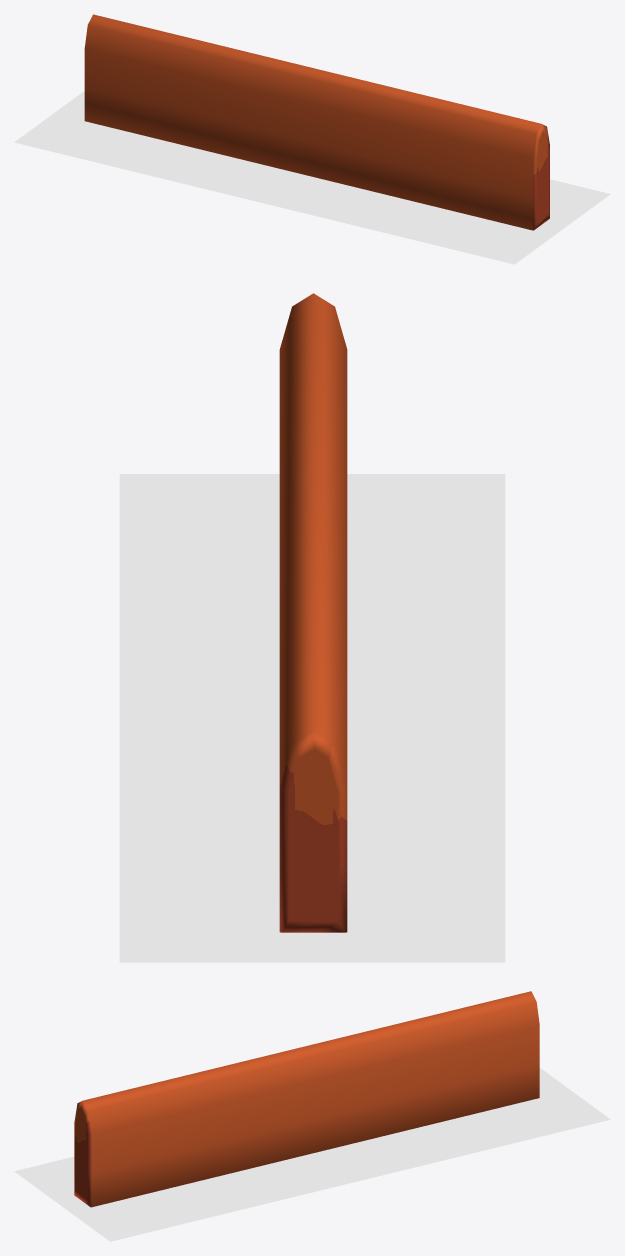
Rendered from NormalContent.fbx.
3 views of the same model, one above another, from view 1: azimuth 30°, elevation 25°; view 2: azimuth 150°, elevation 25°; view 3: azimuth 270°, elevation 25° (orthographic). The views are drawn at different scales.
Visible parts, largest first — view 1: BasicObstacle, Shadow; view 2: Shadow, BasicObstacle; view 3: BasicObstacle, Shadow.
Part boxes in pixels (bbox=[...]): BasicObstacle: bbox=[84, 14, 549, 230]; Shadow: bbox=[14, 91, 610, 264]; Shadow: bbox=[119, 474, 505, 962]; BasicObstacle: bbox=[279, 293, 347, 932]; BasicObstacle: bbox=[74, 991, 539, 1207]; Shadow: bbox=[14, 1068, 610, 1241].
Size of the model in its own units: 1.61 by 0.3992 by 2.11.
